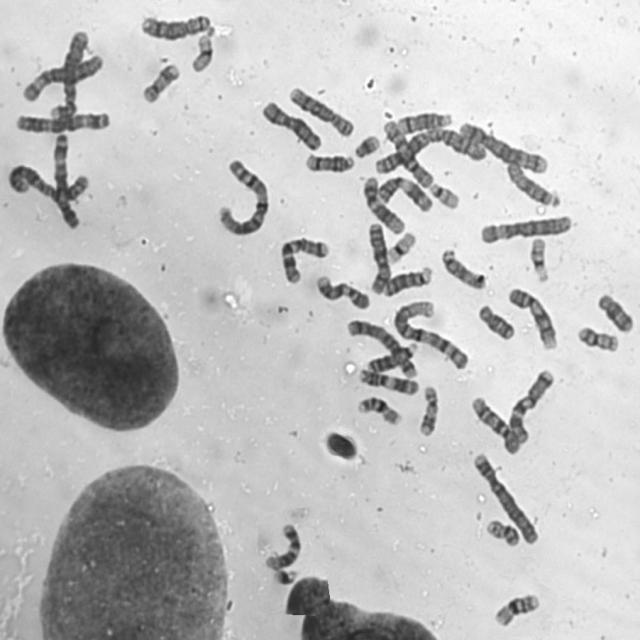A1: (390, 298, 470, 365), (213, 154, 271, 238)
A2: (369, 123, 487, 176), (6, 159, 89, 204)
A3: (51, 130, 82, 215), (12, 109, 112, 135)
B4: (471, 454, 542, 545), (49, 28, 94, 123)
B5: (343, 315, 420, 382), (456, 119, 549, 174)
C10: (382, 119, 437, 190), (468, 394, 523, 454)
C11: (373, 173, 434, 214), (356, 366, 420, 395)
C12: (359, 172, 406, 234), (262, 520, 303, 572)
C6: (19, 50, 105, 103), (476, 212, 573, 246)
C7: (506, 364, 556, 444), (278, 232, 332, 286)
C8: (286, 82, 355, 138), (137, 10, 215, 42)
C9: (506, 283, 558, 352), (314, 272, 371, 311)
D13: (361, 340, 426, 375), (381, 262, 434, 298)
D14: (393, 109, 453, 135), (301, 150, 356, 175)
D15: (505, 160, 561, 210), (438, 246, 488, 292)
E16: (490, 590, 542, 628), (355, 393, 402, 426)
E17: (140, 60, 181, 104), (418, 382, 440, 438)
E18: (475, 301, 517, 342), (595, 291, 635, 333)
F19: (188, 30, 216, 74), (385, 228, 417, 265)
F20: (573, 322, 620, 354), (484, 515, 521, 548)
G21: (351, 131, 382, 160), (270, 565, 299, 586)
G22: (527, 234, 551, 284), (427, 178, 461, 210)
X: (259, 101, 323, 153), (364, 221, 392, 296)
